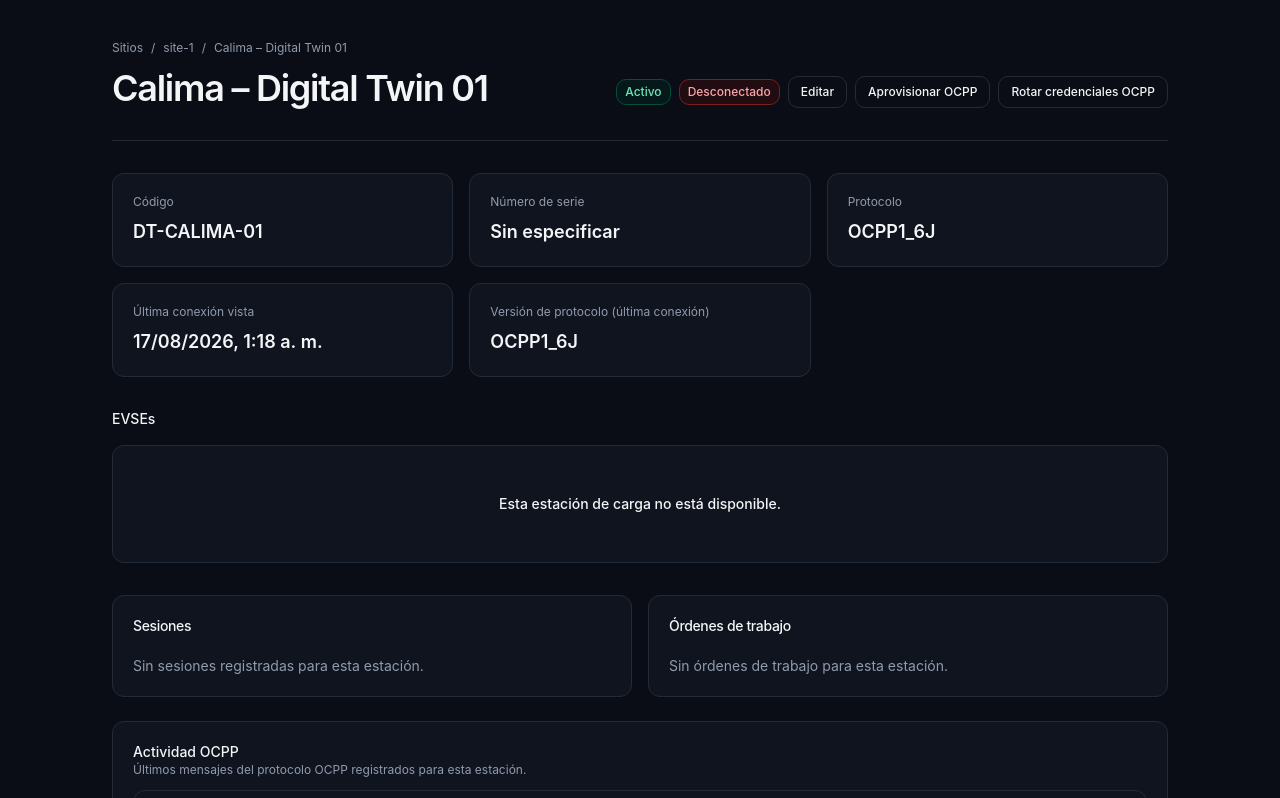
Test: ChargingStationDetailPage — existing OCPP provisioning flow stays green › provisioning error still surfaces inline below the header
Click the button "Aprovisionar OCPP": click(923, 92) [855,76,990,108]
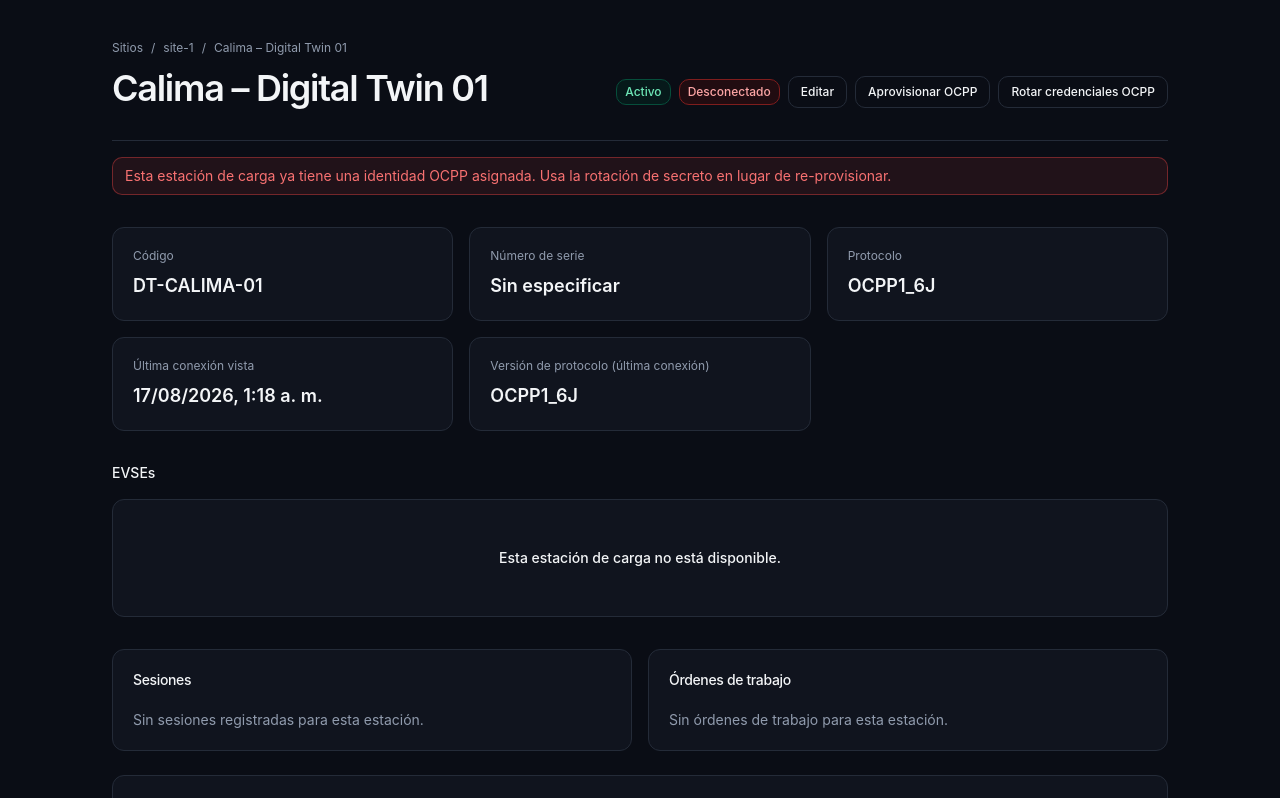
Expected: the text "Esta estación de carga ya tiene una identidad OCPP asignada. Usa la rotación de secreto en lugar de re-provisionar." is shown, [125,167,891,184]
